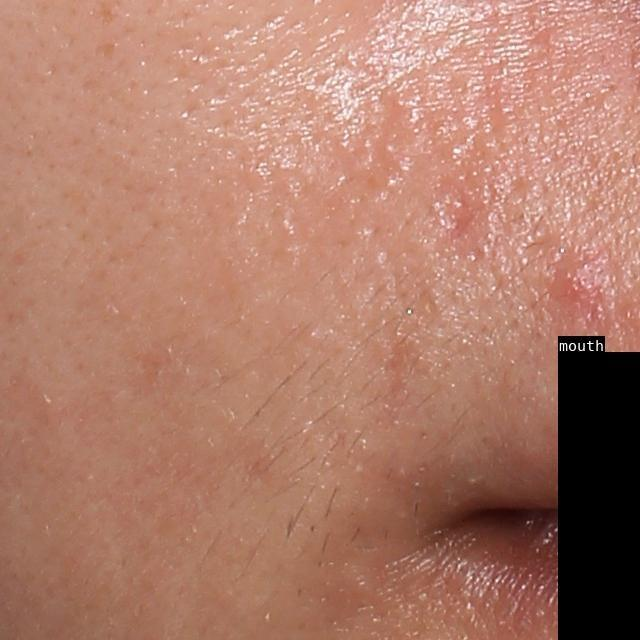papule: (543, 247, 613, 323)
